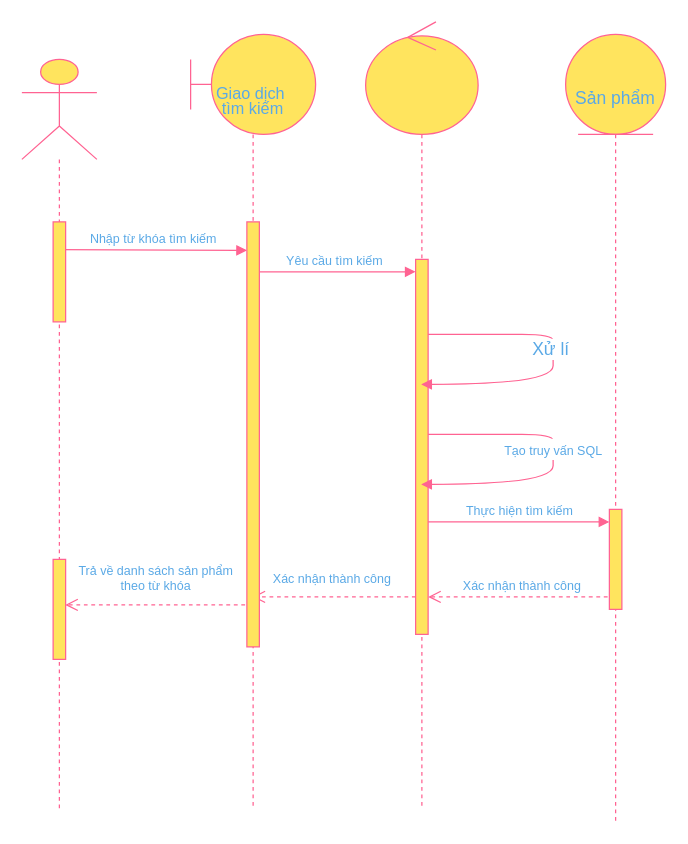
This 688x844 diagram has some shape labels left out. The shapes that lost their labels are listed below. From the top down, each one's box as (x1, y1, x2, y2) in pixels, then its label:
(21, 58, 97, 809): Khách hàng
(364, 21, 478, 809): Điều kiện tìm kiếm
